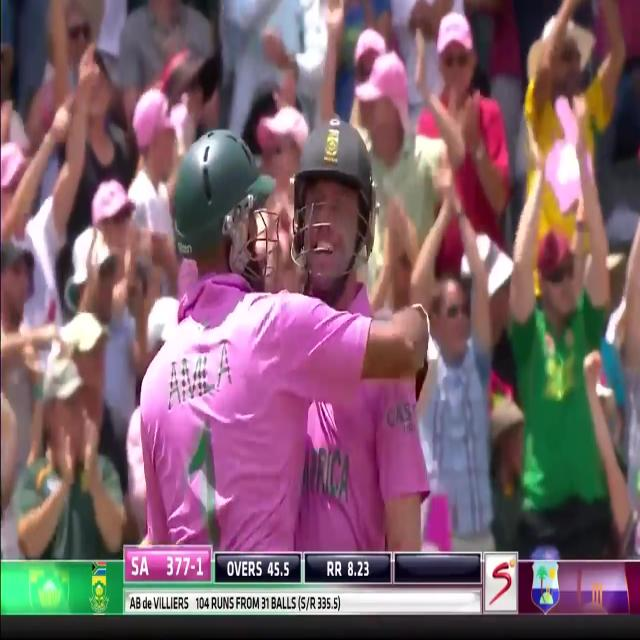Ball: (106, 126, 431, 555)
